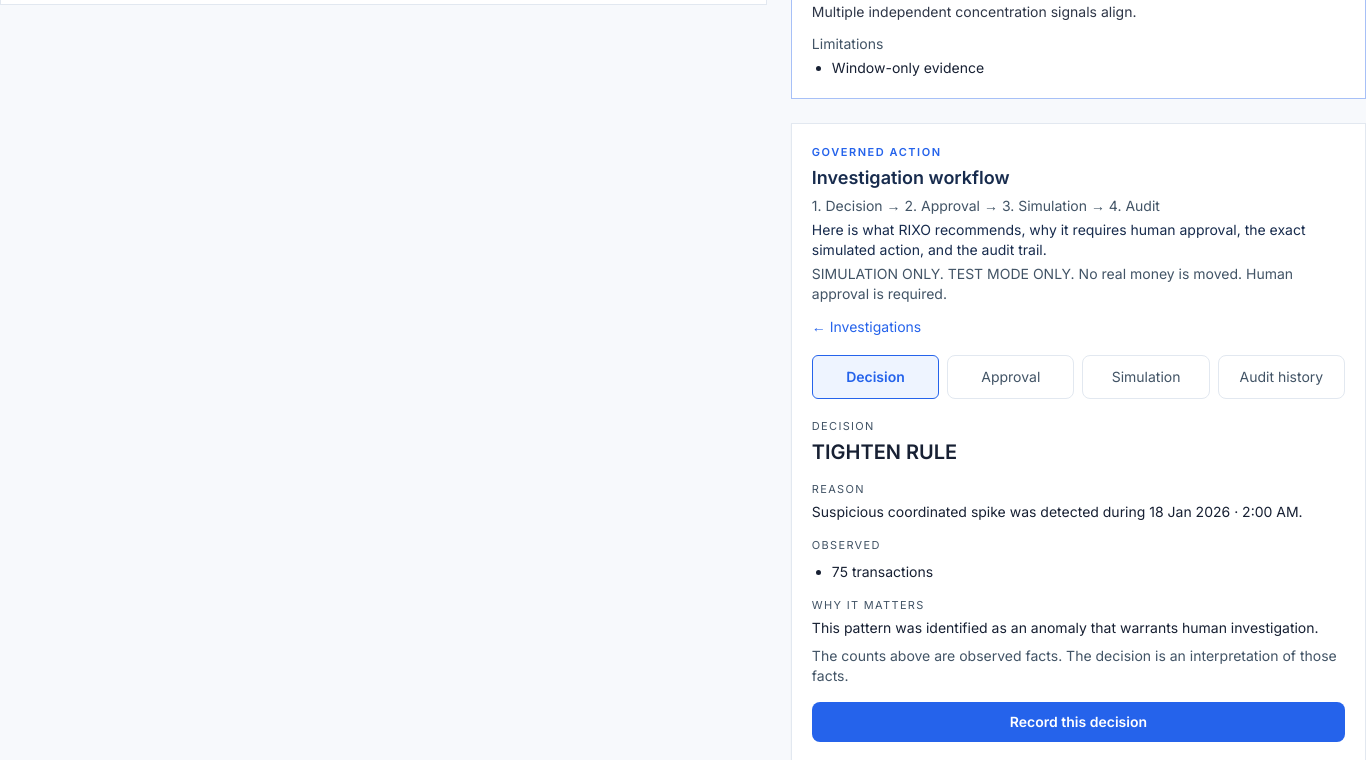
Scenario: Approval tab stays gated until a decision is recorded
The image size is (1366, 760).
(page scrolled)
Expected: the button "Record this decision" is shown, [812,702,1345,742]
Click the tab "Approval" at (1011, 377), box [947,355,1074,399]
(page scrolled)
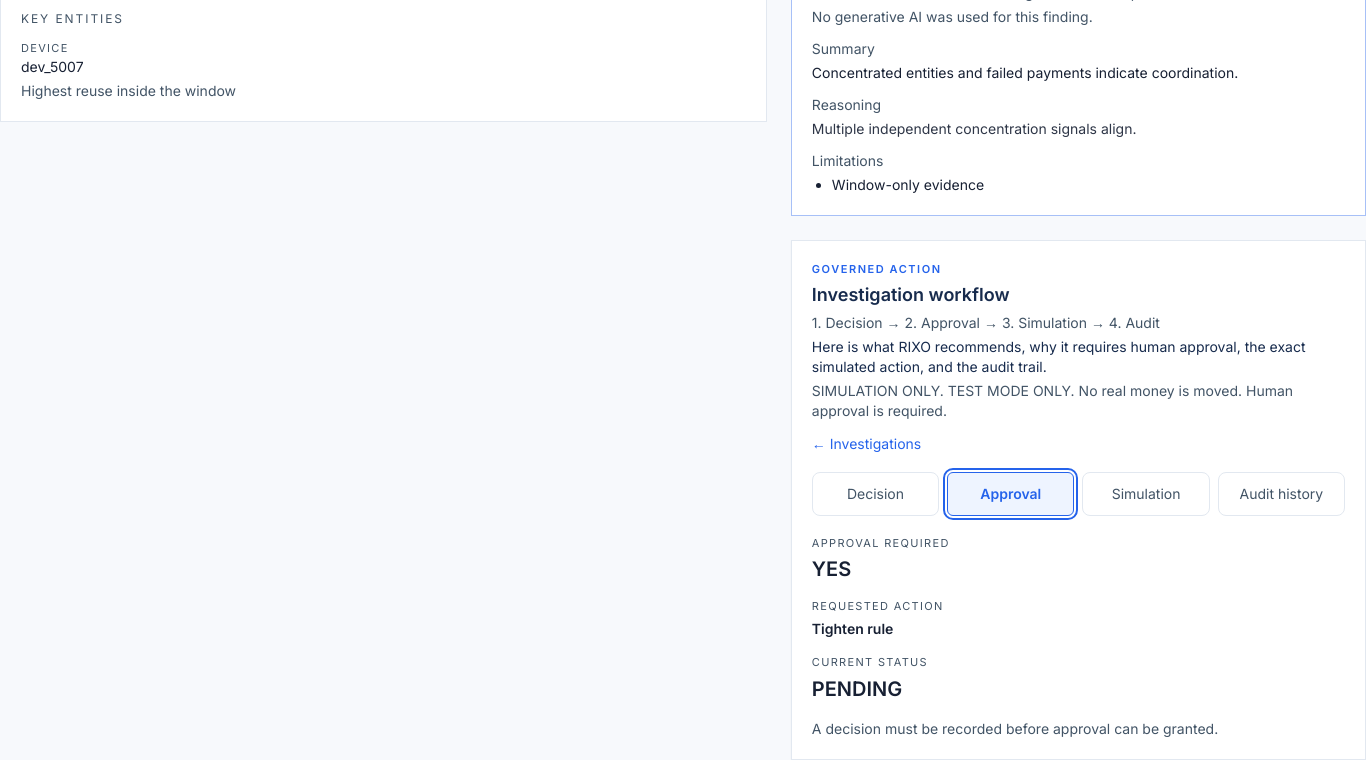
Result: the text "Approval required" is shown at [812,536,950,550]
Result: the text "PENDING" is shown at [812,677,902,701]
Result: the text "A decision must be recorded before approval can be granted." is shown at [812,720,1218,737]
